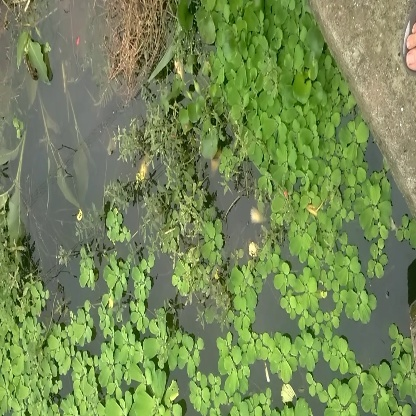leaf: (13, 29, 57, 87)
